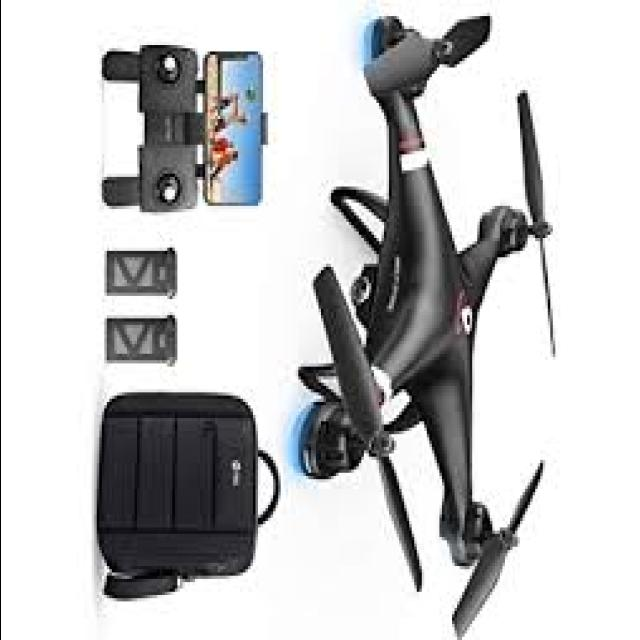drone: (296, 0, 576, 640)
